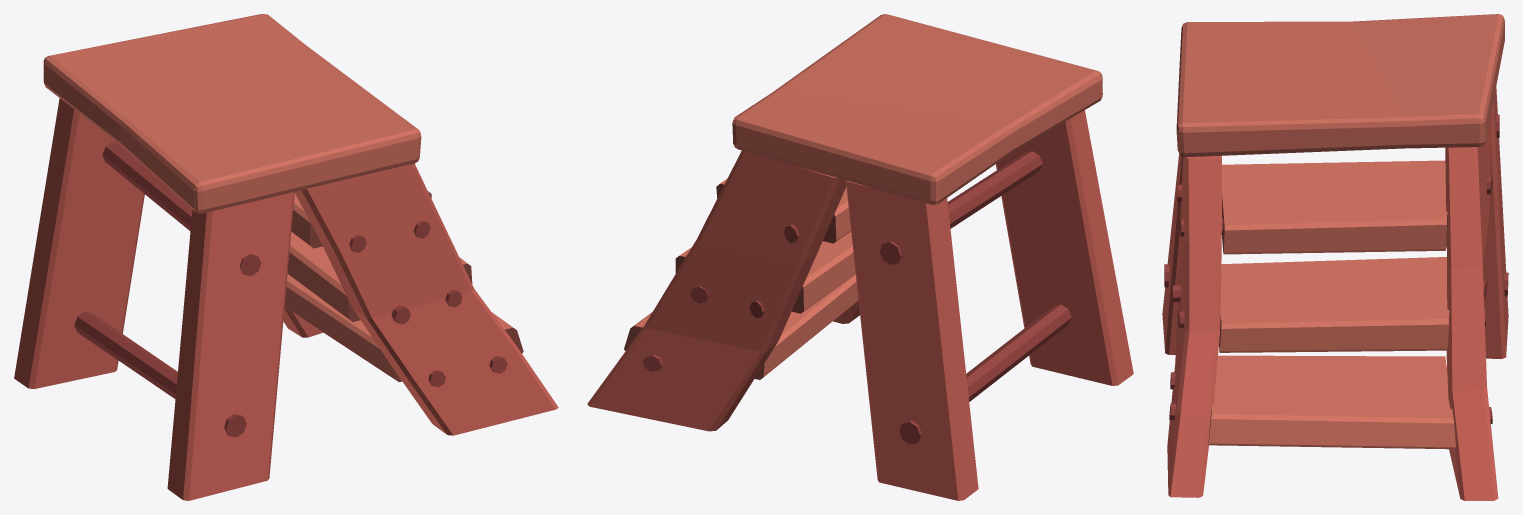
The model's file is stairs.fbx.
3 renders of one model, left to right at view 1: azimuth 30°, elevation 25°; view 2: azimuth 150°, elevation 25°; view 3: azimuth 270°, elevation 25°, orthographic.
Visible parts, largest first — view 1: Item9; view 2: Item9; view 3: Item9.
Boxes of the visible parts, x1=… form: Item9: x1=14, y1=14, x2=558, y2=500; Item9: x1=587, y1=14, x2=1133, y2=500; Item9: x1=1162, y1=14, x2=1508, y2=500.
Bounding box in the file's own units: 42.31 × 33.99 × 33.31.
